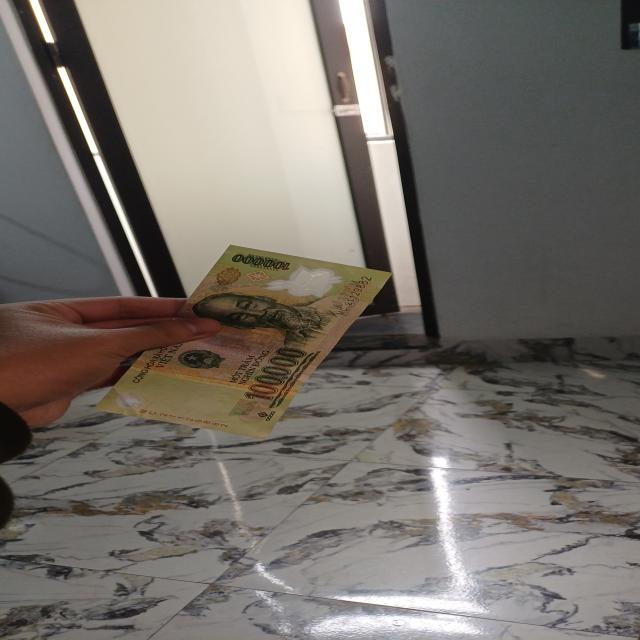100 000 VND: (90, 243, 397, 441)
